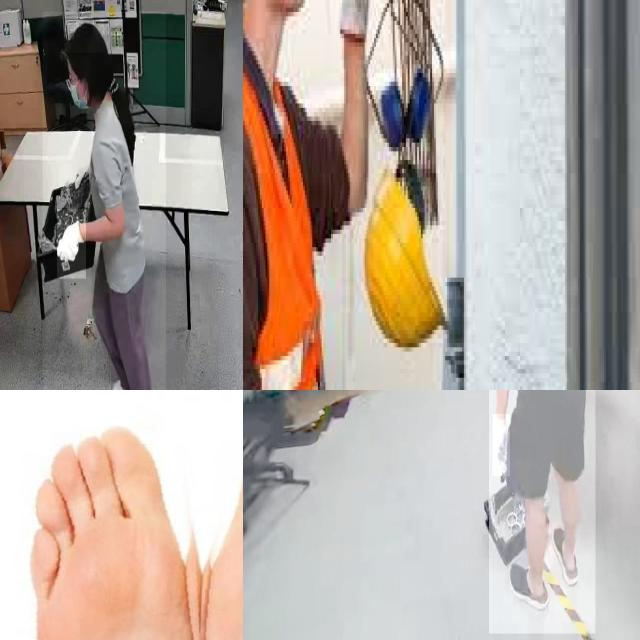Barefoots: (0, 411, 197, 640)
Ear-protection: (380, 52, 430, 152)
face_mask: (64, 55, 90, 118)
hand_glove: (57, 210, 87, 280), (492, 414, 510, 477)
head_helmet: (359, 169, 449, 356)
head_nohelmet: (64, 22, 105, 54)
person: (243, 0, 379, 390), (42, 12, 166, 390), (489, 390, 596, 634)
shoes: (504, 556, 554, 614), (550, 521, 583, 595)
